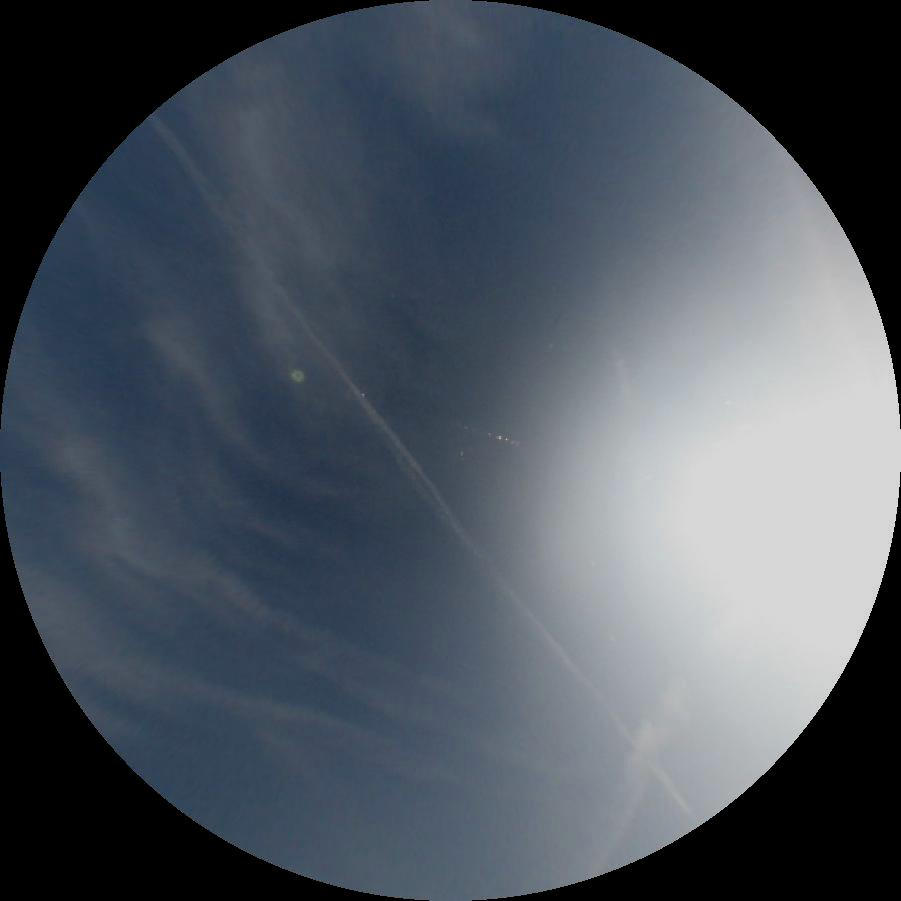contrail old: (137, 110, 698, 831)
contrail veryold: (107, 515, 625, 815), (566, 693, 686, 886)
sun: (646, 373, 901, 660)
